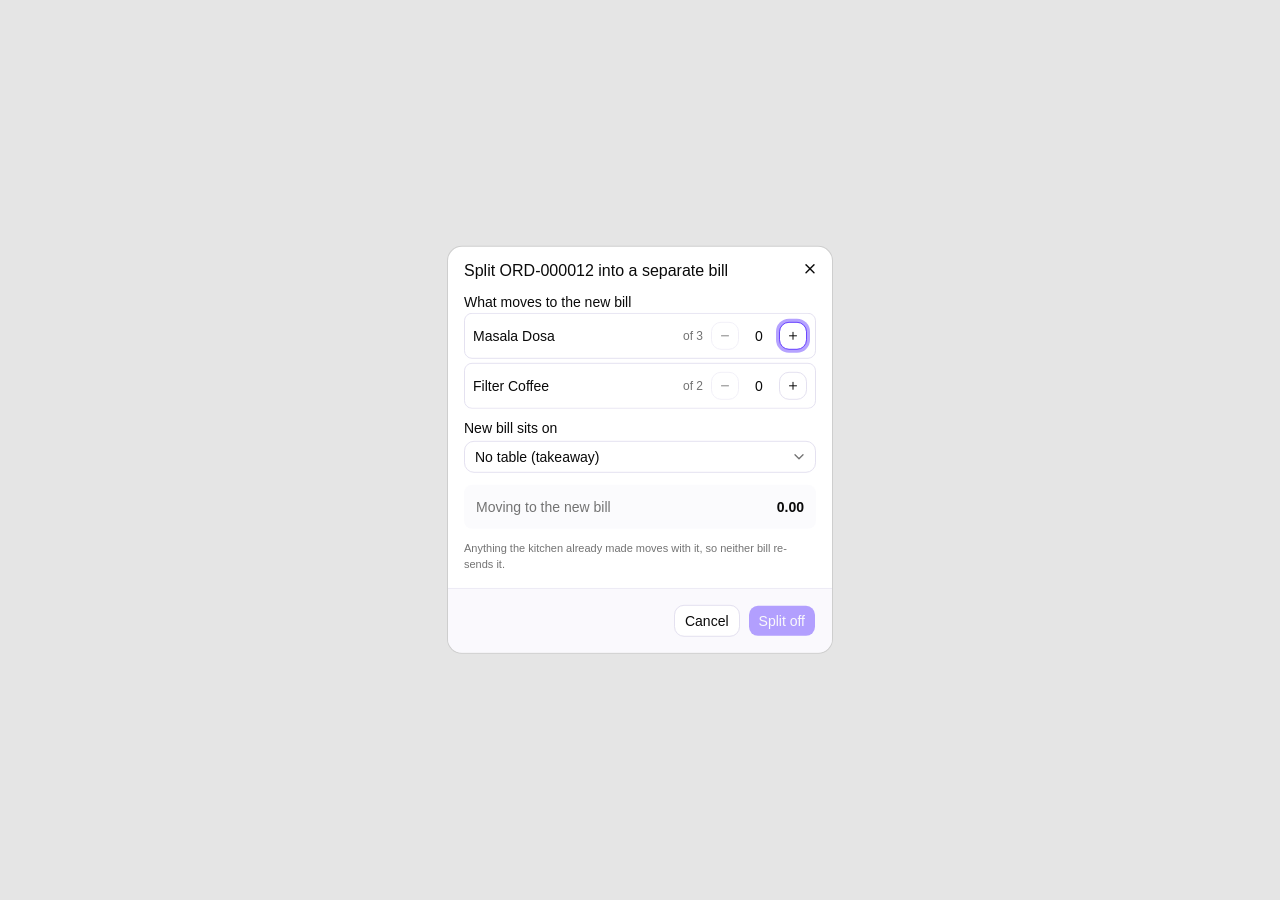
Scenario: SplitOrderDialog › totals only what is moving, not the whole bill
Click the button named "move one more Masala Dosa".
click(793, 336)  # box 779,322 -> 807,350
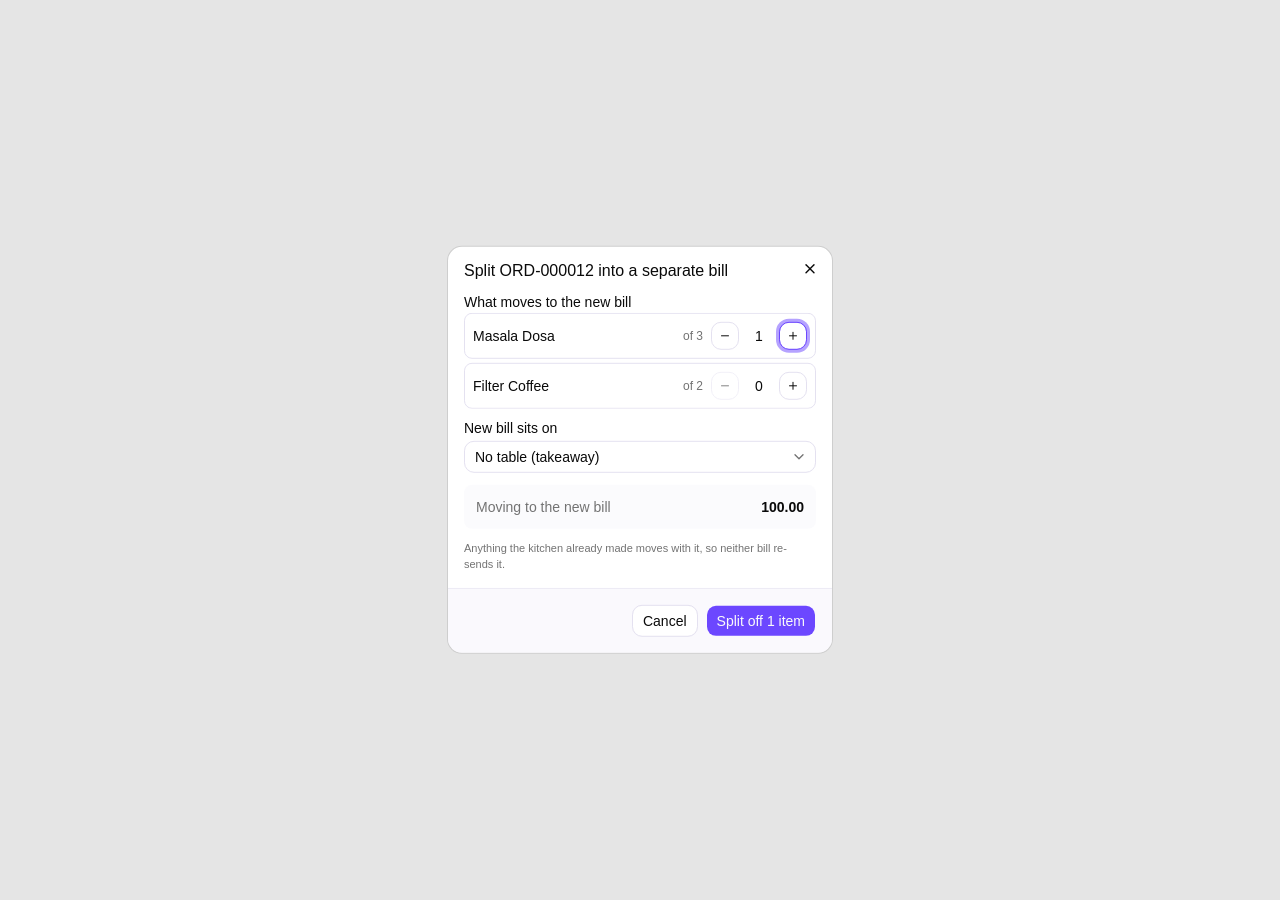
Click the button named "move one more Masala Dosa".
click(793, 336)  # box 779,322 -> 807,350
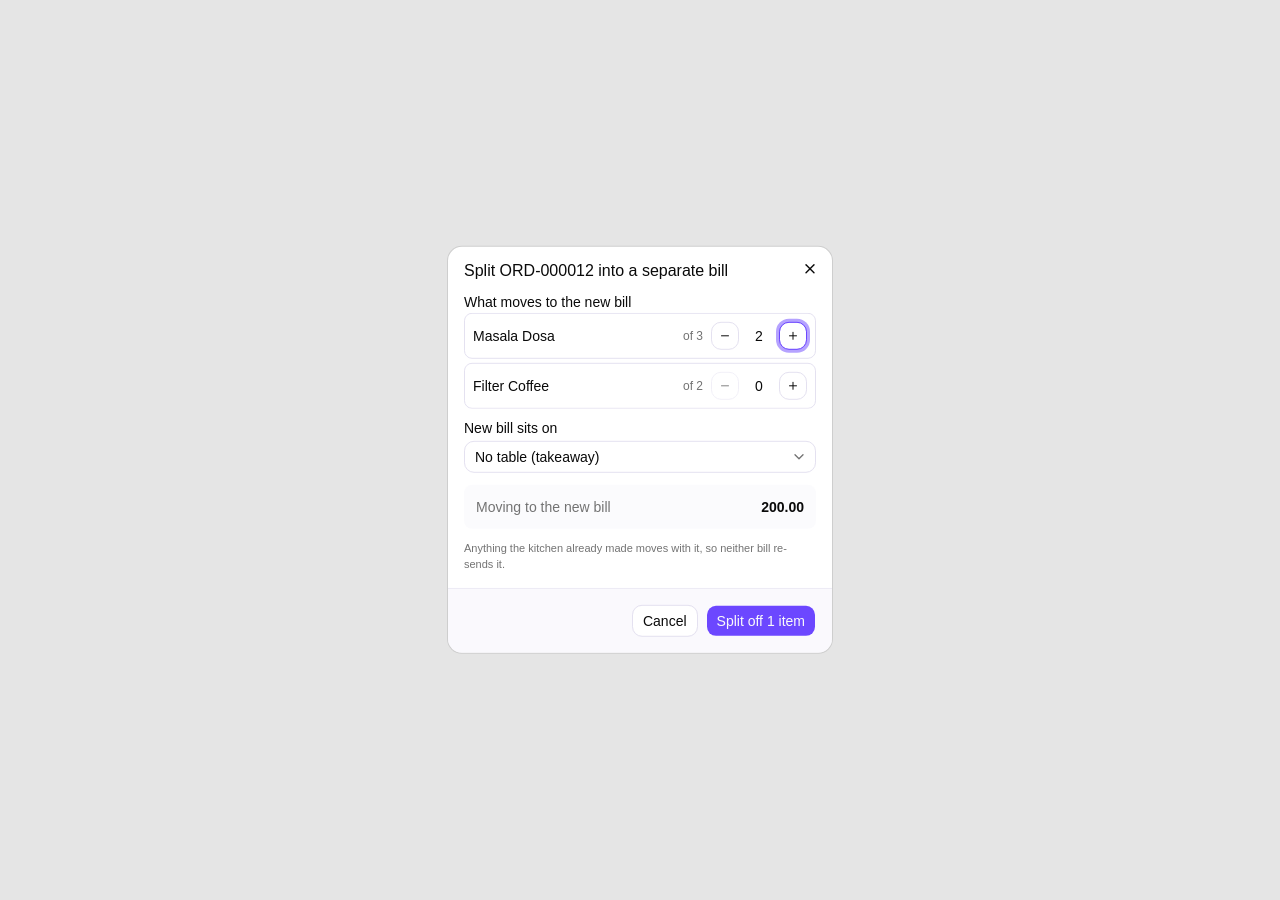
Result: the text "200.00" is shown at 761,497 -> 804,517
